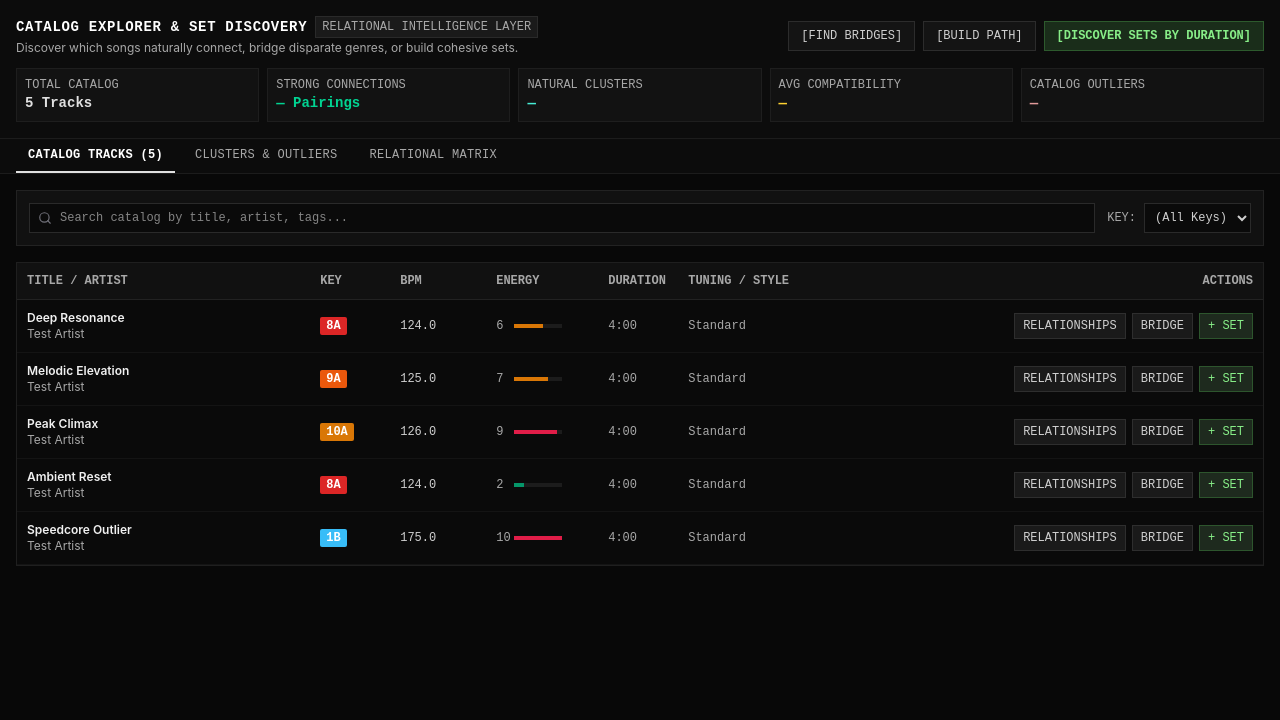
Scenario: CatalogExplorerView Component › opens PathExplorerModal and allows step-by-step path chaining
This screenshot has width=1280, height=720.
Click the button with test id "btn-build-path" at (979, 36), box [923, 21, 1036, 51]
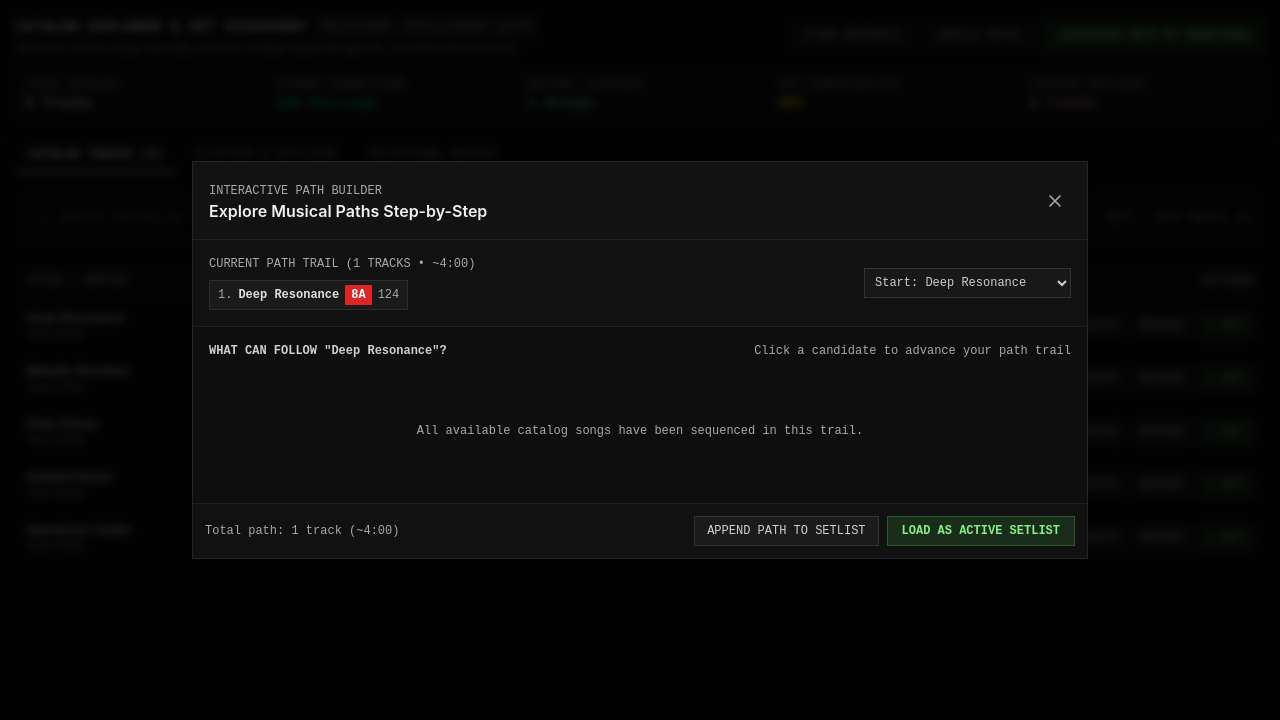
Now the element with test id "path-explorer-modal" is shown, box [192, 161, 1088, 559]
Now the text "INTERACTIVE PATH BUILDER" is shown, box [209, 184, 382, 198]
Now the text "CURRENT PATH TRAIL (1 TRACKS • ~4:00)" is shown, box [209, 256, 476, 272]
